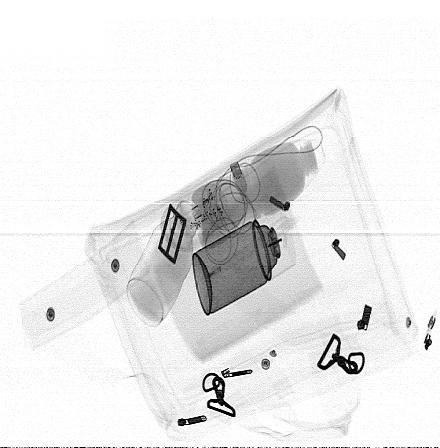Sprayer: (193, 207, 297, 315)
